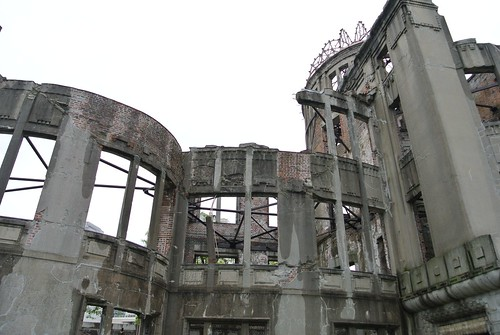building: (1, 3, 497, 335)
